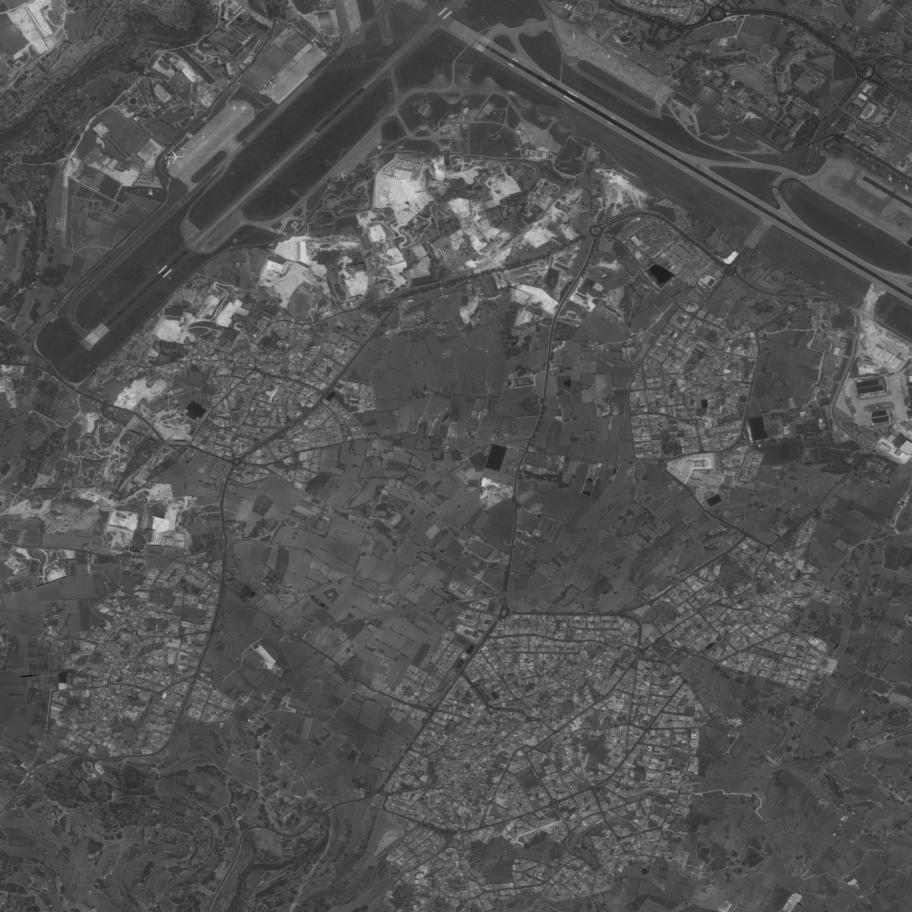plane: (259, 73, 283, 95), (162, 148, 187, 166), (335, 169, 351, 184), (567, 28, 582, 44), (342, 10, 356, 24), (162, 158, 175, 170), (884, 173, 897, 185), (176, 144, 190, 155), (901, 183, 912, 194), (843, 383, 853, 394), (618, 61, 629, 71), (843, 391, 854, 401), (199, 132, 209, 141), (239, 104, 249, 113), (904, 400, 912, 409), (231, 104, 239, 112), (848, 400, 856, 408), (605, 53, 613, 60), (343, 2, 349, 8), (896, 382, 902, 387), (896, 378, 901, 383), (903, 381, 907, 385)
